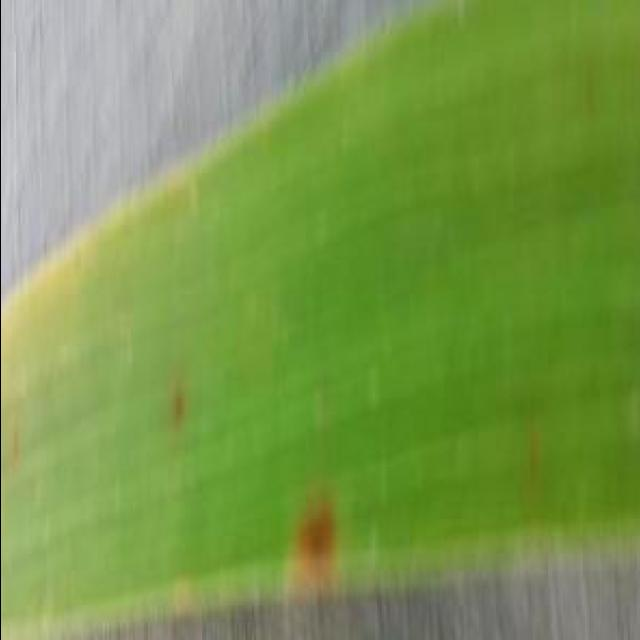Brown_Spot: (276, 484, 351, 592), (158, 382, 188, 437), (0, 420, 22, 470)
